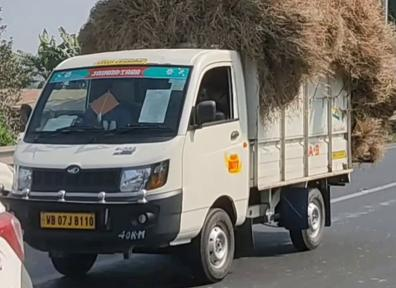Truck: (8, 48, 370, 285)
